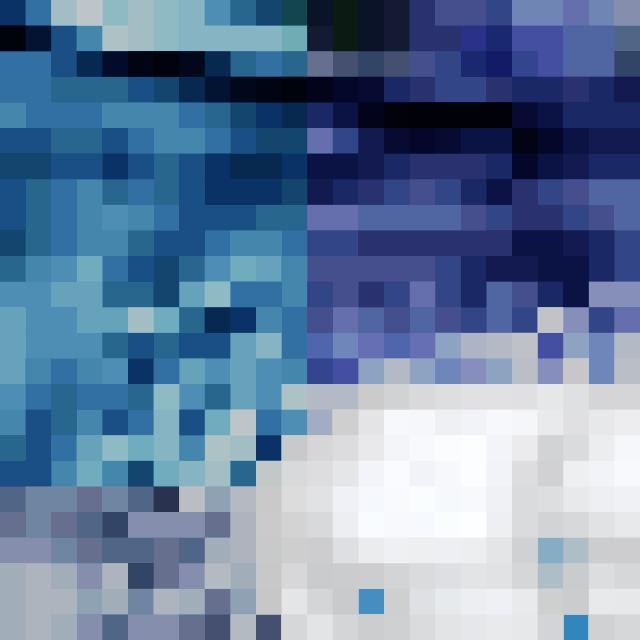arms: (0, 0, 307, 128)
